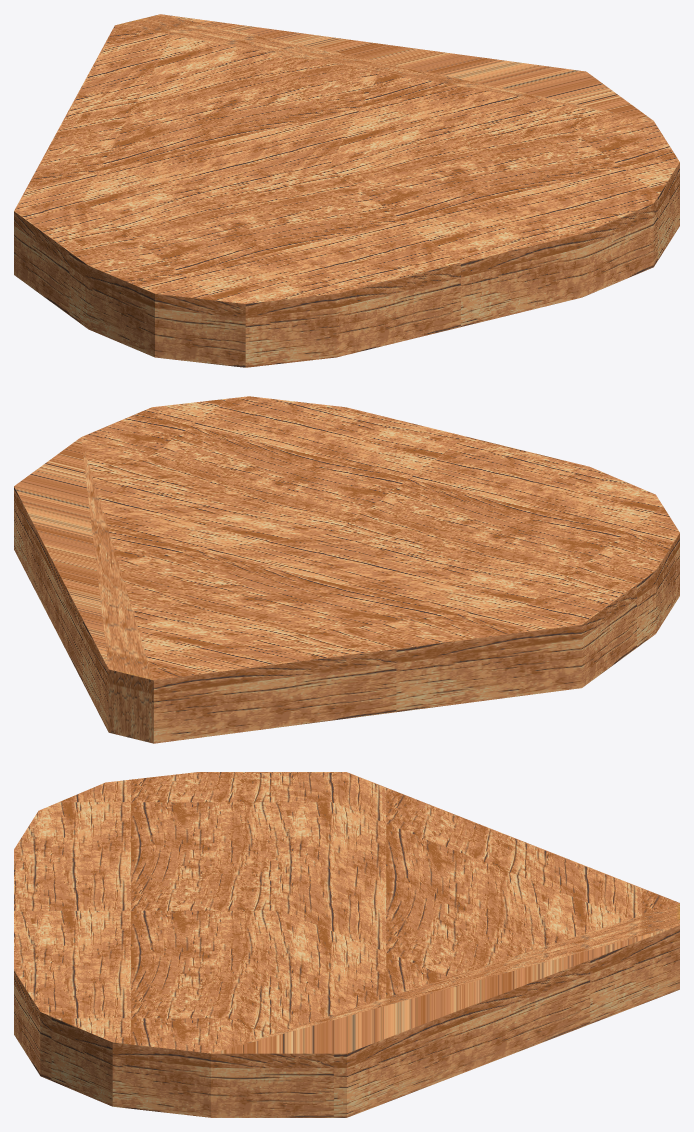
Rendered from detail_four.fbx.
3 renders of one model, top to bottom at view 1: azimuth 30°, elevation 25°; view 2: azimuth 150°, elevation 25°; view 3: azimuth 270°, elevation 25°, orthographic.
Parts seen in each view (by area): view 1: detail; view 2: detail; view 3: detail.
Part boxes in pixels (x1,y1,x2,y2): detail: (14, 14, 679, 367); detail: (14, 396, 679, 743); detail: (14, 772, 679, 1117).
Size of the model in its own units: 24.19 by 2.57 by 24.19.
